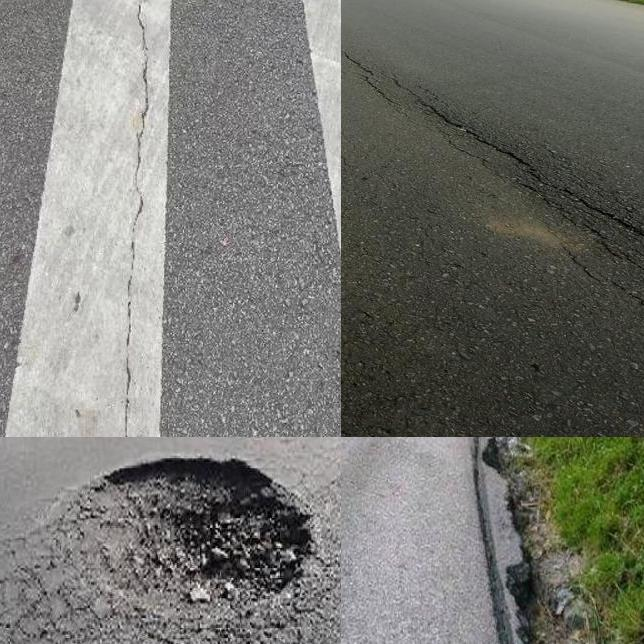Lubang: (82, 453, 306, 613)
Memanjang: (341, 31, 644, 274), (107, 0, 162, 437)
Pinggir: (457, 437, 597, 644)
